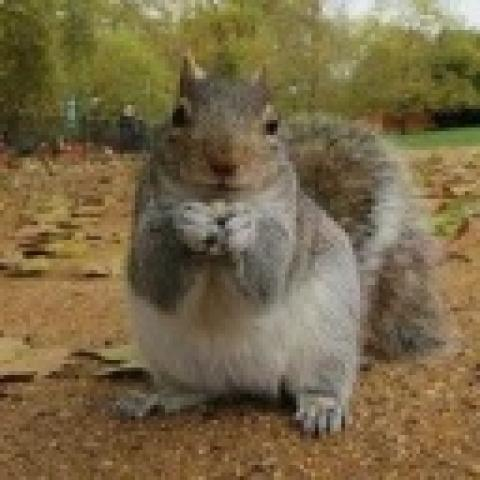small_animal: (113, 49, 417, 435)
